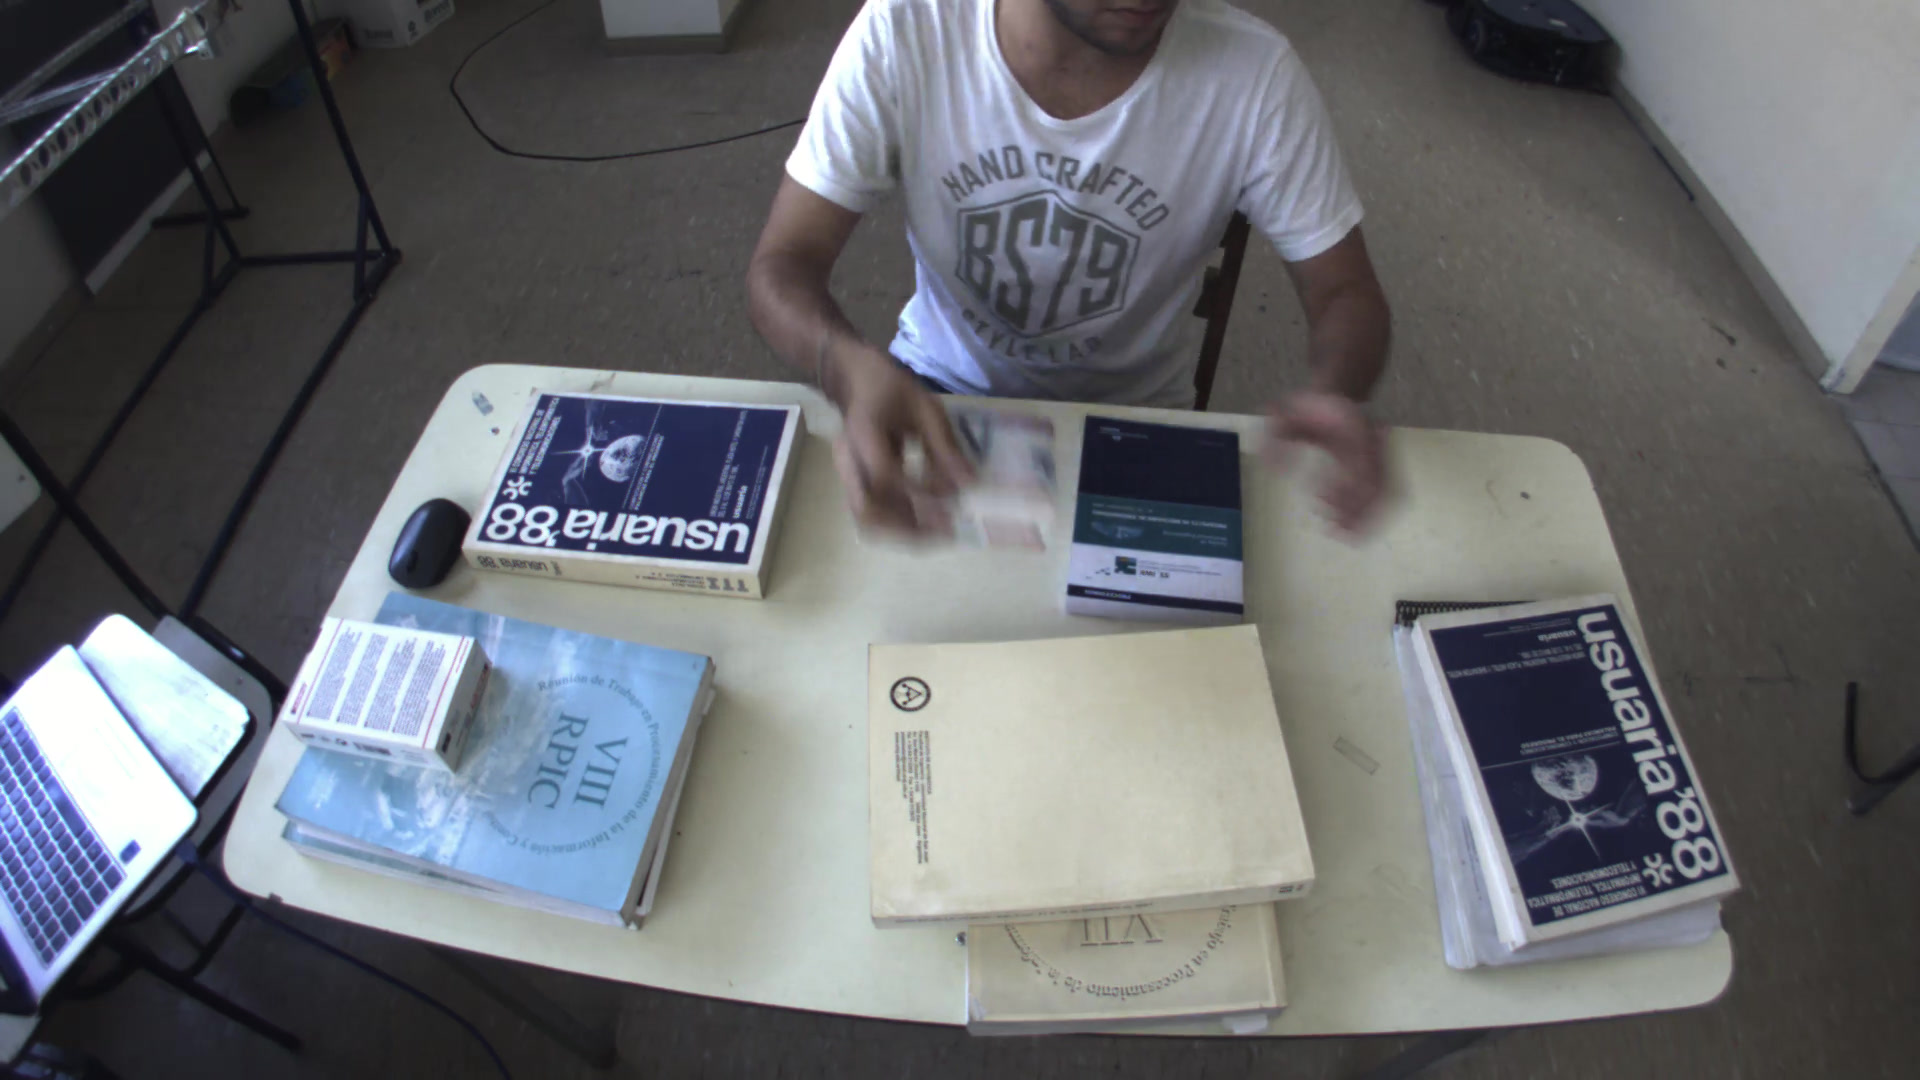hand: (808, 342, 976, 538)
